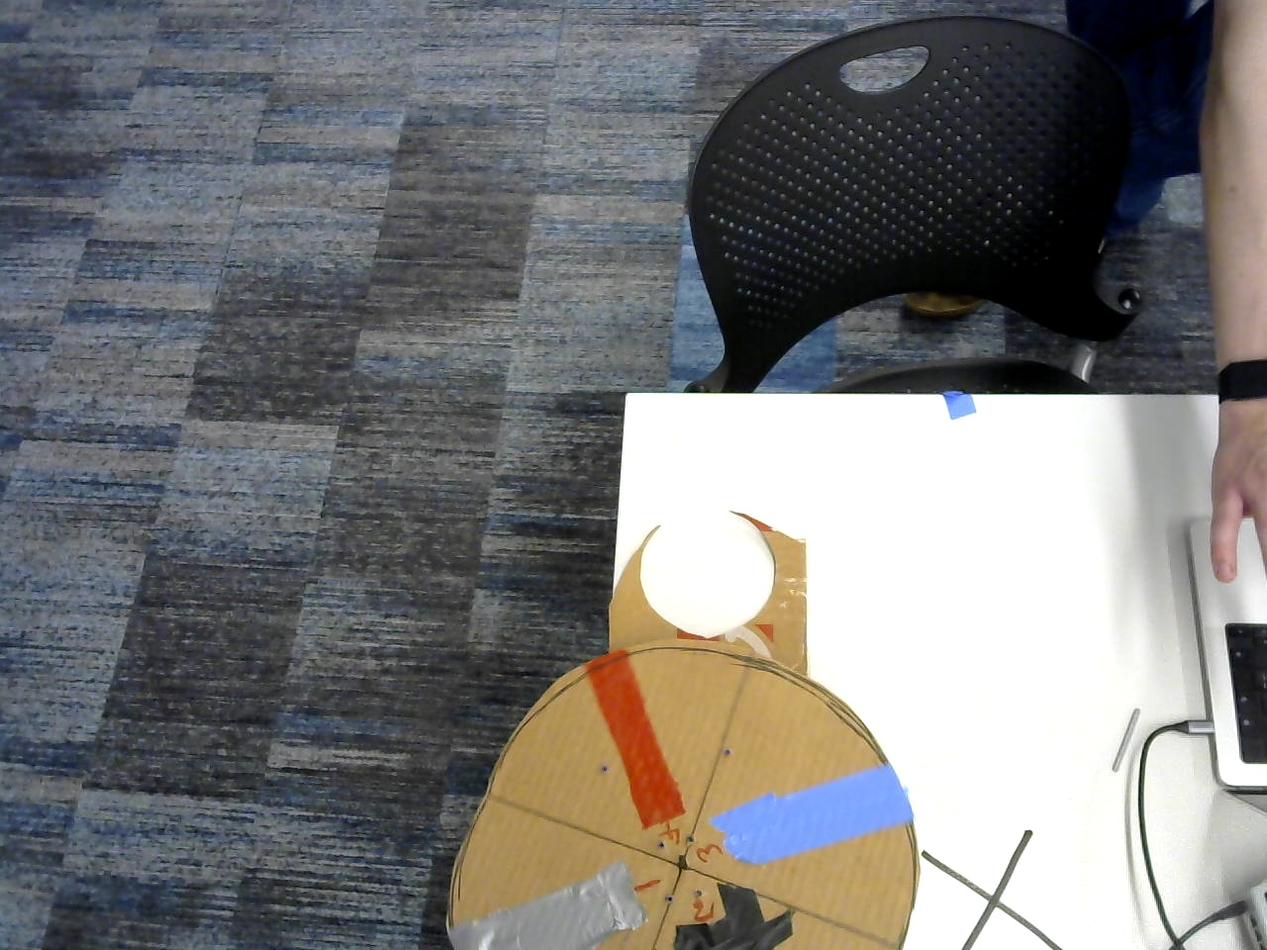black: (672, 885, 792, 950)
blue: (712, 766, 915, 865)
red: (583, 649, 687, 830)
silver: (452, 861, 653, 950)
x: (930, 831, 1049, 950)
